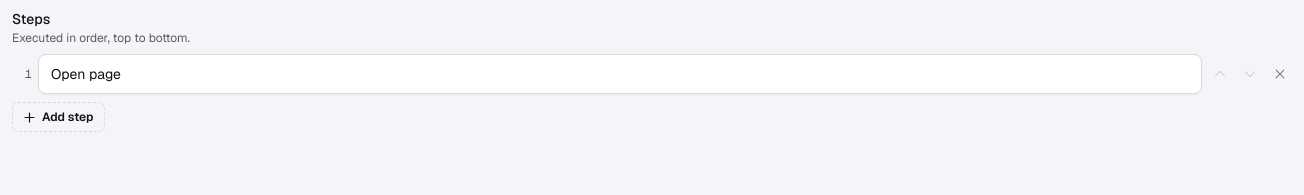
StepListField › adds a row and prevents form submission when Enter is pressed on the last row
Click the field named "Step 1".
click(620, 74)  # box [38,54,1202,94]
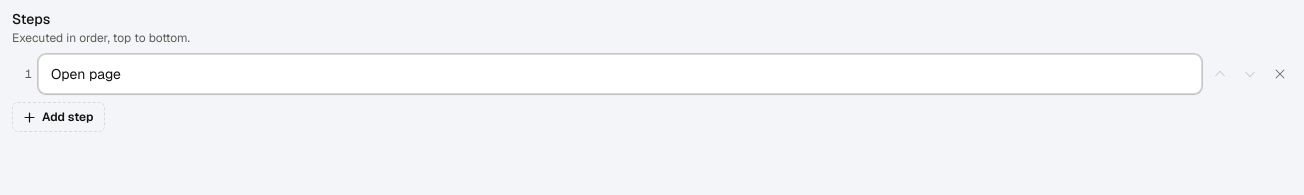
Press Enter
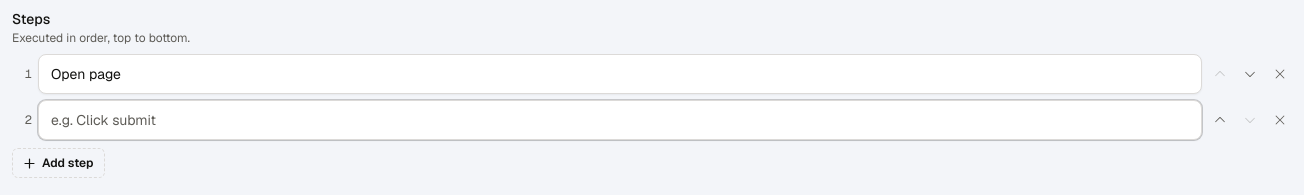
Expected: the field named "Step 2" is shown, [38,100,1202,140]
